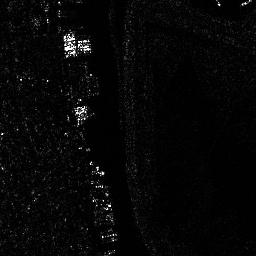ship: (77, 36, 91, 54)
